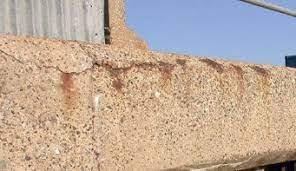Corrosion: (103, 65, 126, 95), (60, 72, 76, 106), (198, 58, 224, 74), (158, 63, 178, 83), (247, 64, 269, 77), (228, 62, 245, 77), (175, 57, 187, 66)
Crack: (1, 48, 134, 76)
